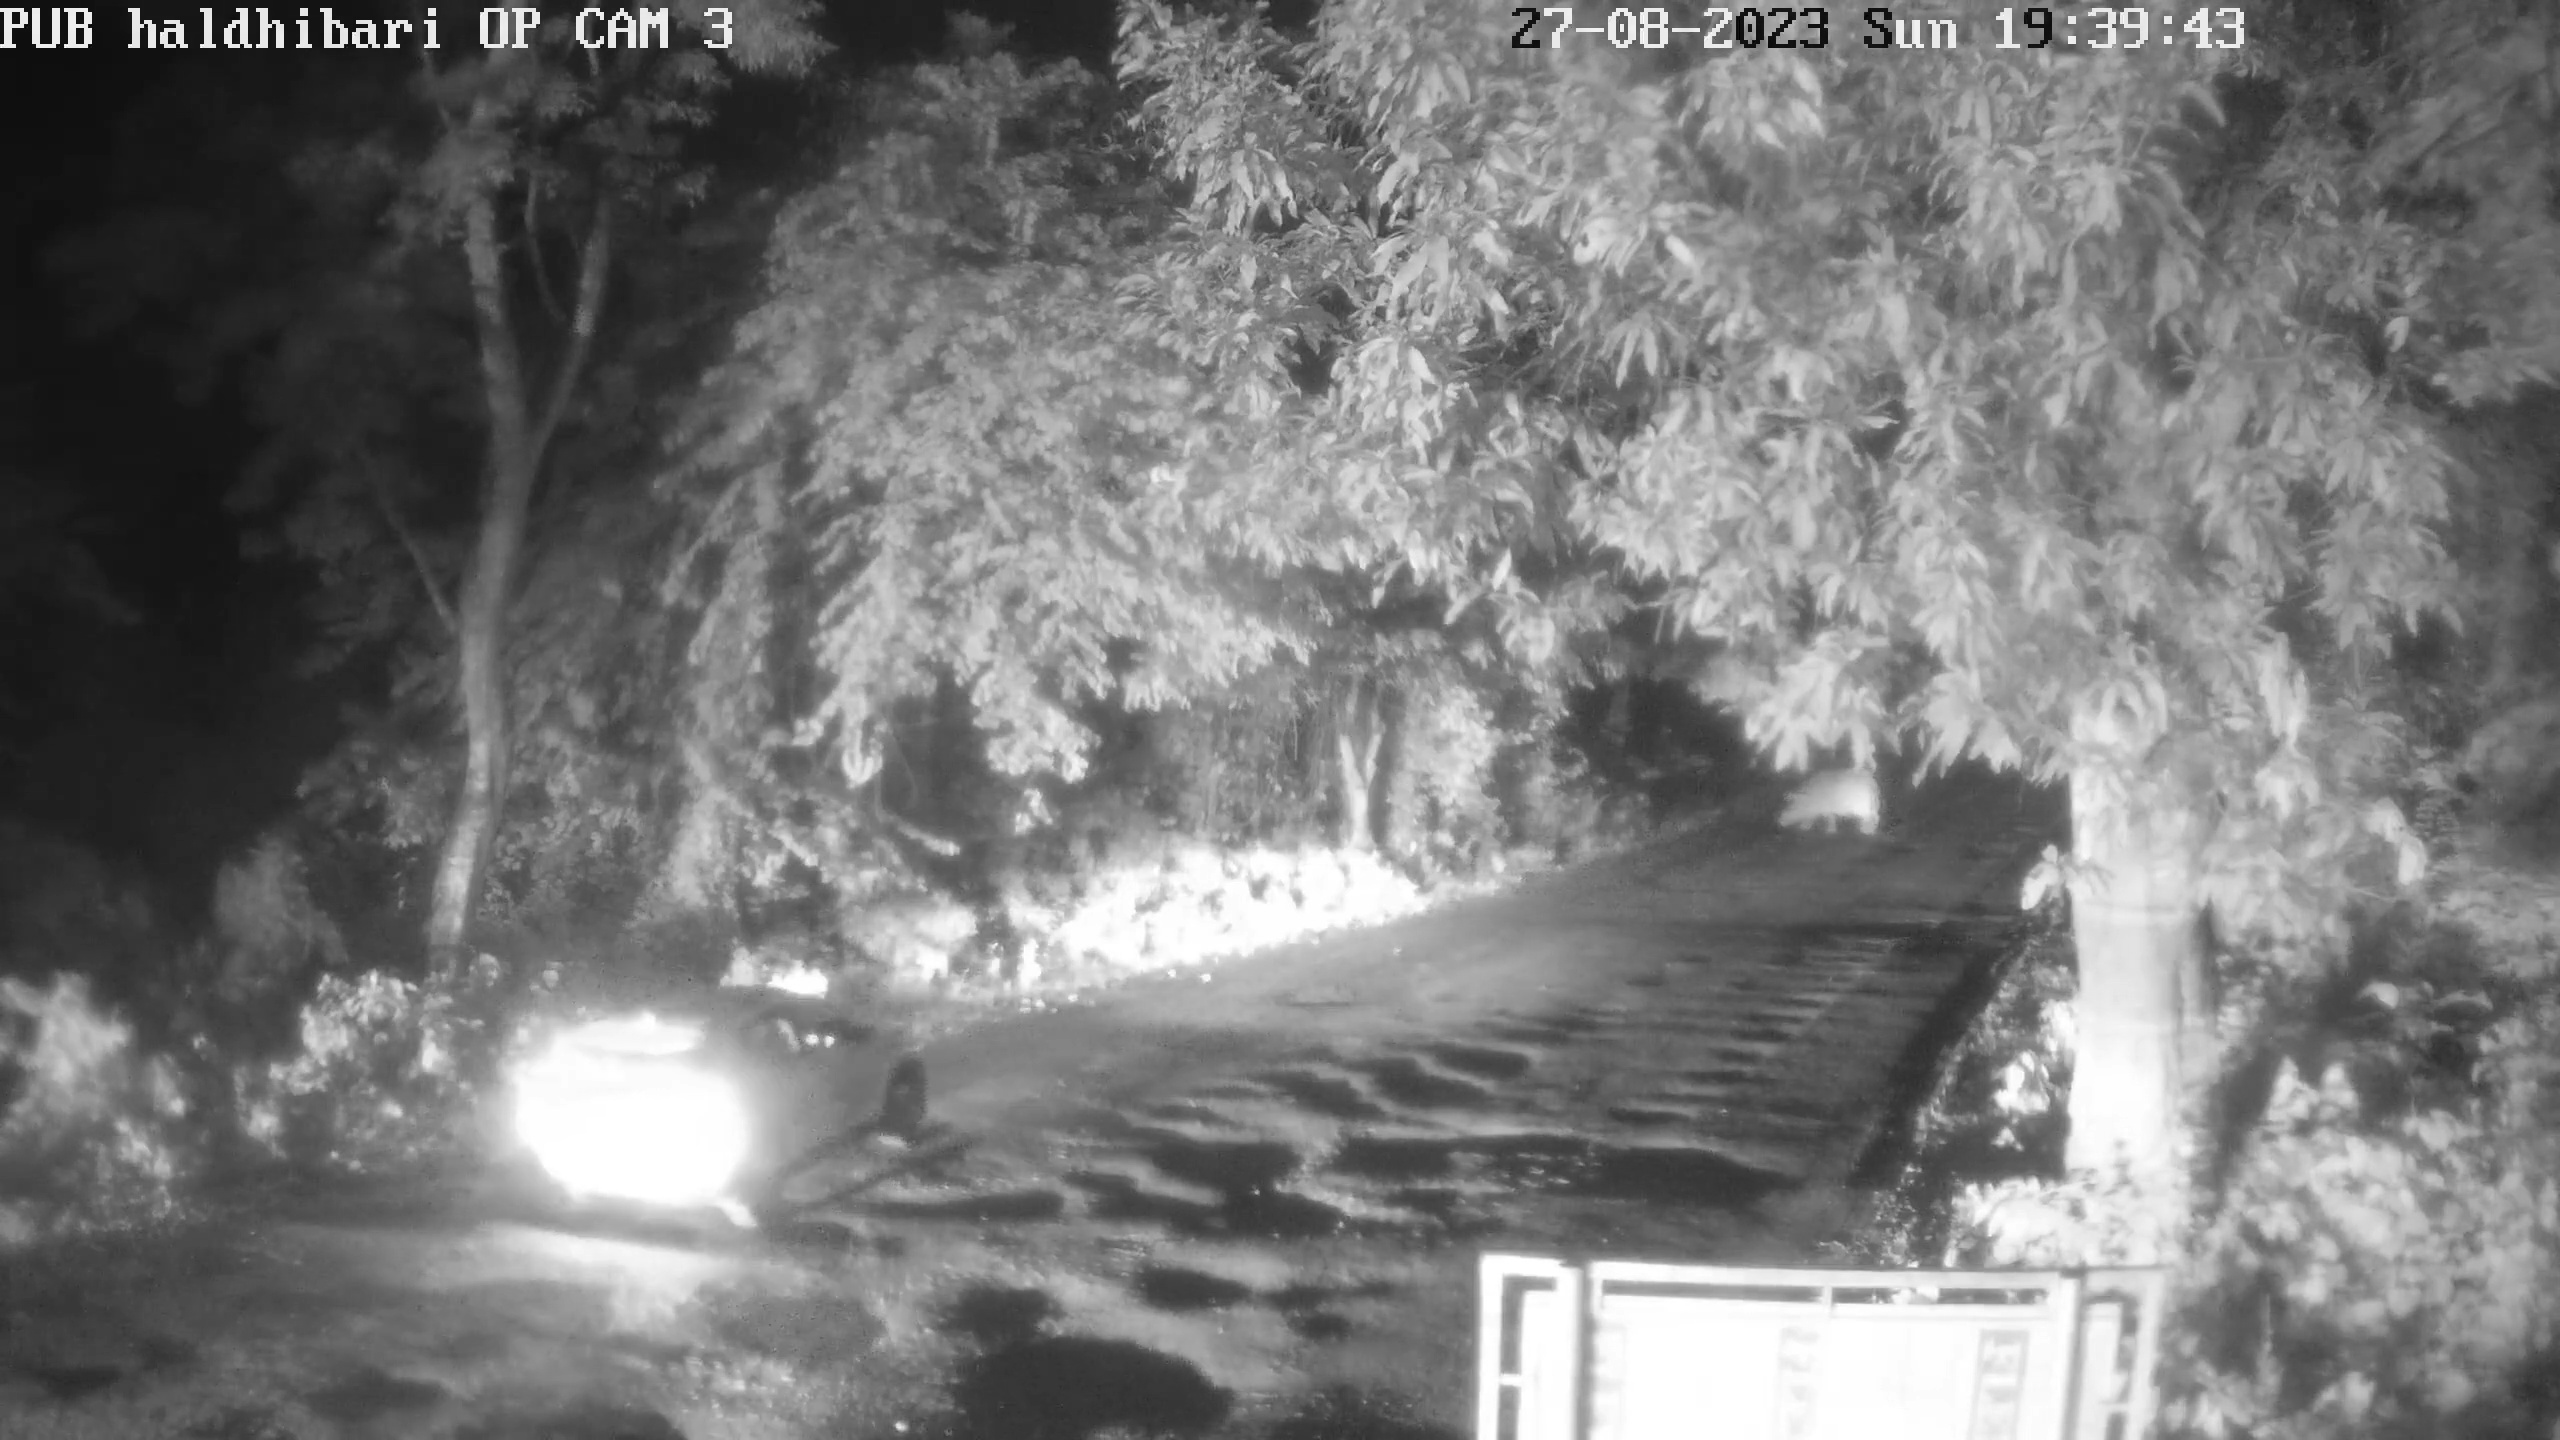rhinos: (1765, 763, 1881, 837)
